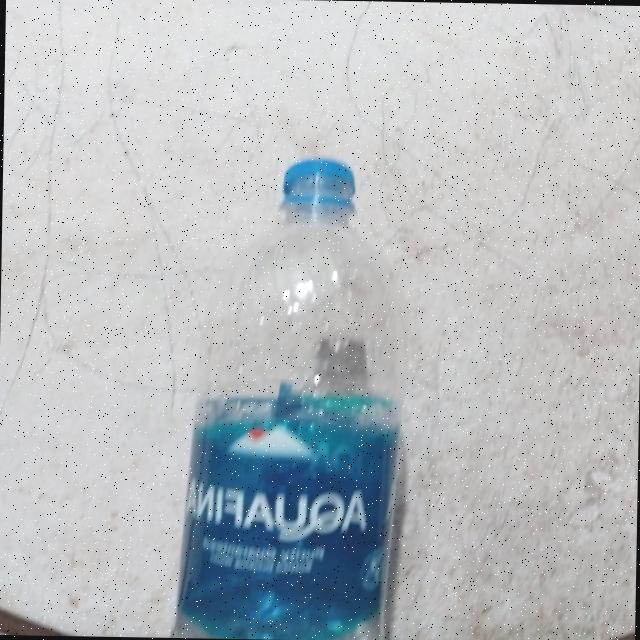bottle: (175, 133, 411, 640)
cap: (276, 148, 359, 212)
label: (175, 382, 408, 640)
